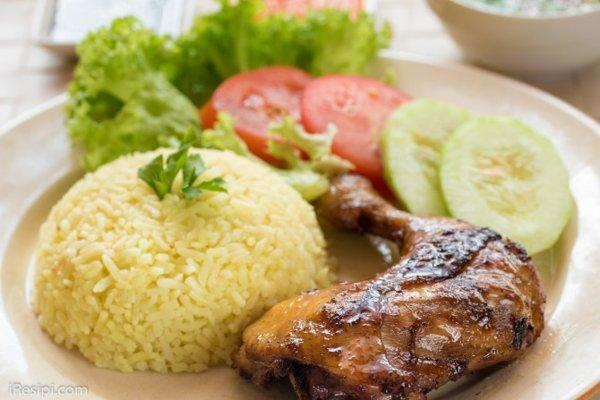buah_sayur_lainnya: (415, 135, 540, 219), (100, 28, 189, 132)
buah_sayur_vitA: (249, 74, 373, 131)
daging: (400, 250, 498, 377)
makanan_berpati: (104, 163, 266, 306)
